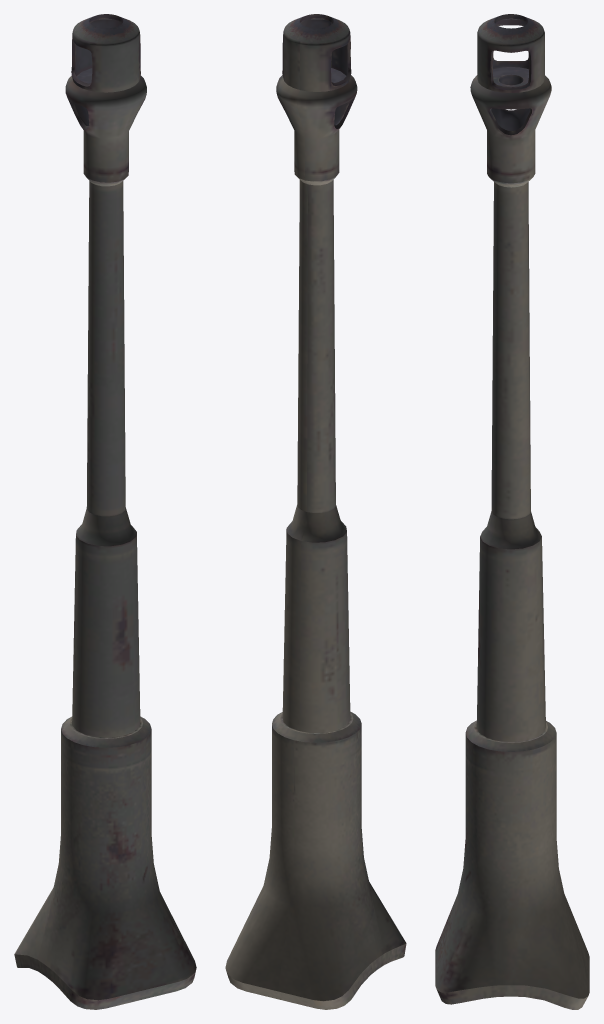
File: Gun_01.glb
3 renders of one model, left to right at view 1: azimuth 30°, elevation 25°; view 2: azimuth 150°, elevation 25°; view 3: azimuth 270°, elevation 25°, orthographic.
Visible parts, largest first — view 1: set_0_group_0; view 2: set_0_group_0; view 3: set_0_group_0.
Boxes of the visible parts, <box> form: set_0_group_0: <box>14,14,196,1009</box>; set_0_group_0: <box>225,14,406,1009</box>; set_0_group_0: <box>435,14,589,1009</box>.
Bounding box in the file's own units: 0.5219 × 3.91 × 0.5674.
Materials: 1 (1 with a texture image).
